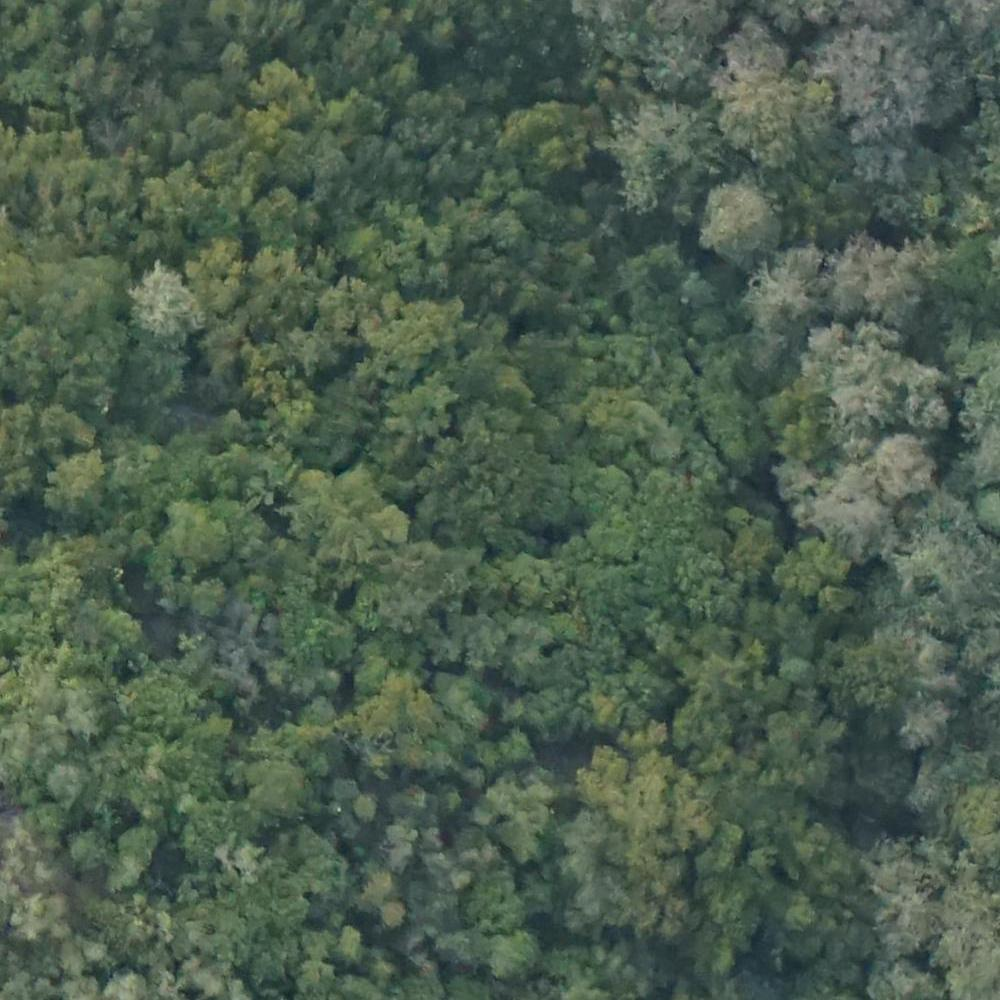tree: (819, 31, 939, 127), (719, 73, 842, 158), (622, 111, 715, 213), (300, 470, 397, 561), (703, 183, 785, 252), (767, 382, 838, 456), (758, 253, 830, 324), (822, 468, 892, 540), (859, 244, 929, 313), (825, 239, 893, 310), (355, 629, 424, 698), (131, 265, 196, 333), (250, 182, 309, 255), (879, 428, 939, 499), (171, 497, 235, 560), (887, 359, 946, 427), (940, 250, 1000, 316), (254, 765, 320, 824), (896, 690, 951, 756), (871, 840, 931, 898), (901, 627, 955, 691), (802, 333, 863, 389), (880, 903, 942, 958), (729, 22, 788, 79), (652, 36, 710, 92), (390, 388, 447, 444), (464, 868, 516, 927), (40, 456, 97, 509), (670, 702, 723, 757), (619, 774, 675, 824), (847, 137, 904, 184), (577, 465, 627, 515), (494, 929, 546, 977), (592, 513, 639, 559), (108, 829, 158, 869), (244, 107, 292, 148), (46, 762, 92, 804), (66, 830, 113, 869), (488, 208, 526, 252), (355, 788, 389, 835), (674, 268, 709, 303), (382, 893, 414, 929), (779, 656, 807, 691), (504, 731, 531, 764), (356, 869, 387, 896)
